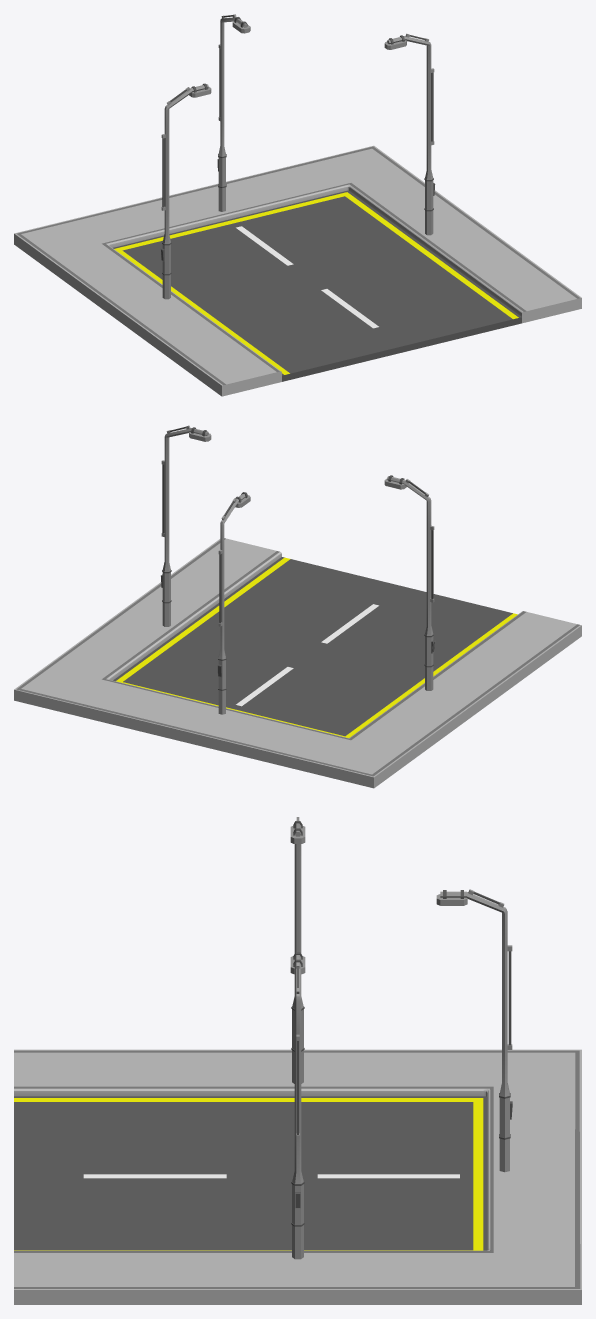
File: SM_Road_DeadEnd_01.FBX
3 views of the same model, one above another, from view 1: azimuth 30°, elevation 25°; view 2: azimuth 150°, elevation 25°; view 3: azimuth 270°, elevation 25° (orthographic). The views are drawn at different scales.
Parts seen in each view (by area): view 1: SM_Road_DeadEnd_01; view 2: SM_Road_DeadEnd_01; view 3: SM_Road_DeadEnd_01.
Part boxes in pixels (x1,y1,x2,y2): SM_Road_DeadEnd_01: (14, 14, 581, 396); SM_Road_DeadEnd_01: (14, 425, 581, 788); SM_Road_DeadEnd_01: (14, 817, 581, 1304).
Bounding box in the file's own units: 6 × 3.44 × 6.
2 materials, 2 textured.
